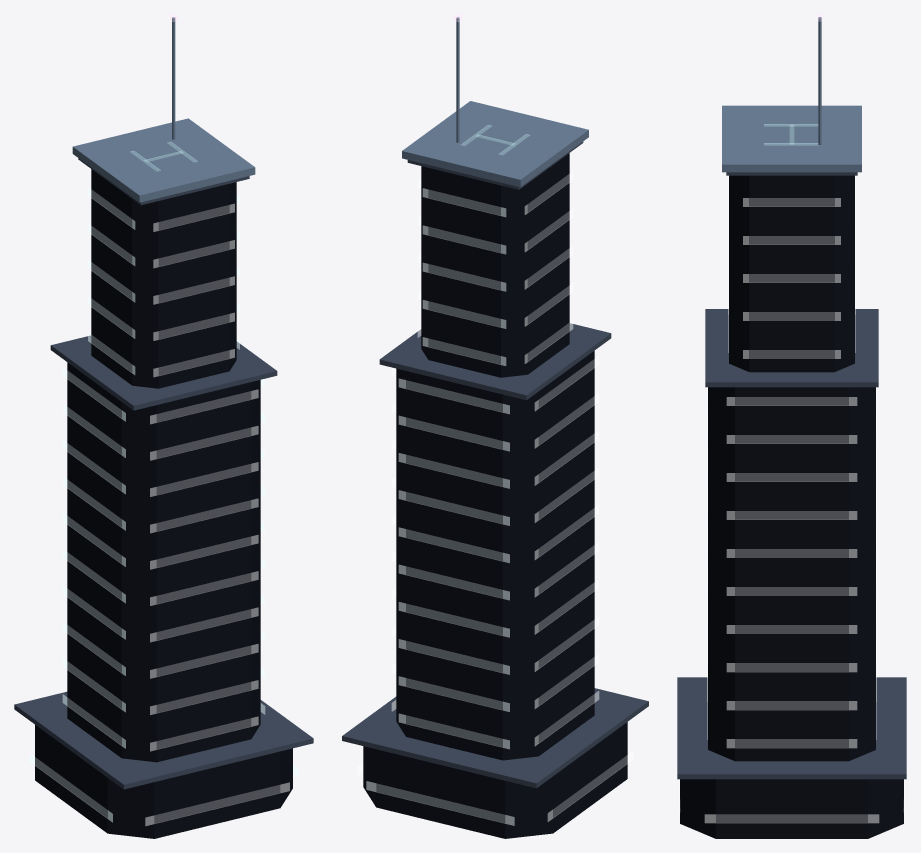
Rendered from skyscraper_tower_a.glb.
3 views of the same model, side by side, from view 1: azimuth 30°, elevation 25°; view 2: azimuth 150°, elevation 25°; view 3: azimuth 270°, elevation 25° (orthographic). The views are drawn at different scales.
Parts seen in each view (by area): view 1: TowerShellMat, WindowsMat; view 2: TowerShellMat, WindowsMat; view 3: TowerShellMat, WindowsMat.
Boxes of the visible parts, box(x1,y1,x2,y2) form: TowerShellMat: box(14, 17, 313, 838); WindowsMat: box(29, 14, 298, 825); TowerShellMat: box(342, 17, 648, 838); WindowsMat: box(357, 14, 633, 825); TowerShellMat: box(677, 17, 906, 838); WindowsMat: box(679, 14, 904, 822).
Bounding box in the file's own units: 16.4 × 62.2 × 16.4.
